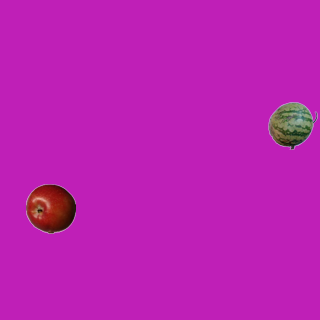Apple Braeburn: (25, 183, 75, 233)
Watermelon: (267, 100, 317, 150)
